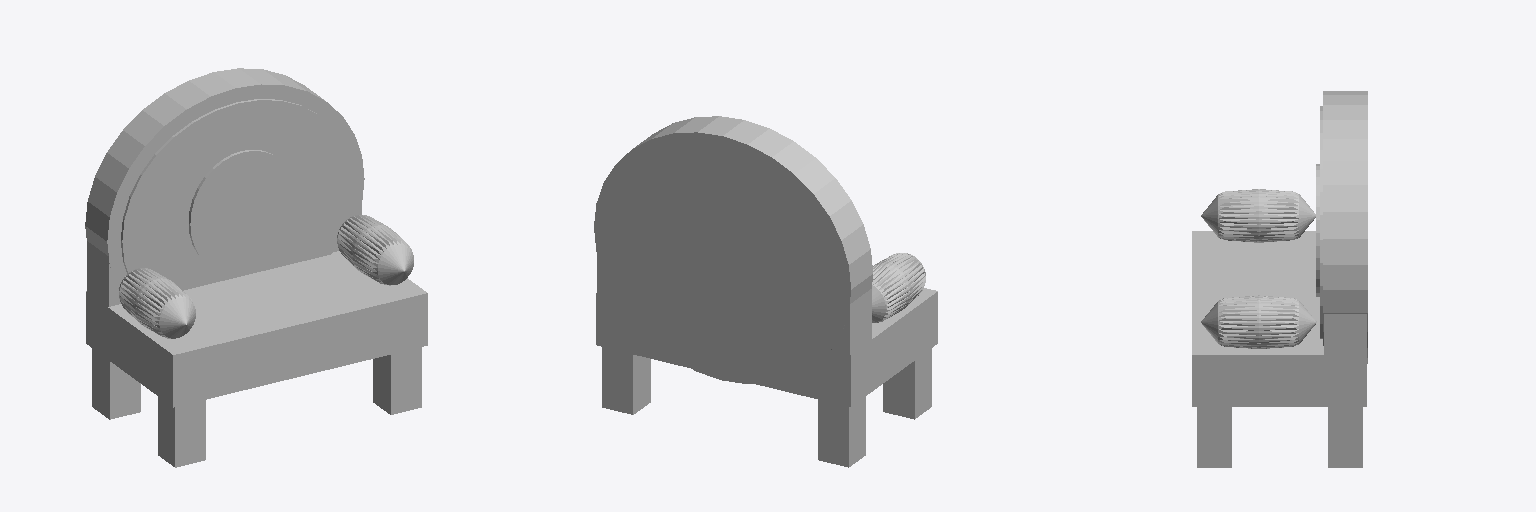
The model's file is ThroneModelWithTexture_CenterCircleEdited_V2.obj.
The picture shows the model from 3 angles: view 1: azimuth 30°, elevation 25°; view 2: azimuth 150°, elevation 25°; view 3: azimuth 270°, elevation 25°; orthographic projection.
Parts seen in each view (by area): view 1: Cube_Cube.001, Cylinder.006, Cylinder, Cylinder.005, Cylinder.009, Cylinder.001; view 2: Cylinder, Cube_Cube.001, Cylinder.009; view 3: Cube_Cube.001, Cylinder, Cylinder.009, Cylinder.001, Cylinder.006, Cylinder.005.
Part boxes in pixels (left/top/right/bottom): Cube_Cube.001: left=86, top=206, right=427, bottom=467; Cylinder.006: left=121, top=99, right=353, bottom=290; Cylinder: left=85, top=68, right=364, bottom=288; Cylinder.005: left=189, top=150, right=298, bottom=273; Cylinder.009: left=119, top=268, right=195, bottom=338; Cylinder.001: left=337, top=215, right=413, bottom=285; Cylinder: left=594, top=116, right=872, bottom=383; Cube_Cube.001: left=596, top=255, right=937, bottom=467; Cylinder.009: left=872, top=253, right=925, bottom=322; Cube_Cube.001: left=1192, top=231, right=1366, bottom=467; Cylinder: left=1323, top=91, right=1367, bottom=363; Cylinder.009: left=1201, top=189, right=1315, bottom=242; Cylinder.001: left=1201, top=295, right=1316, bottom=348; Cylinder.006: left=1320, top=106, right=1322, bottom=338; Cylinder.005: left=1316, top=164, right=1319, bottom=296.
Bounding box in the file's own units: 3.48 × 3.82 × 2.